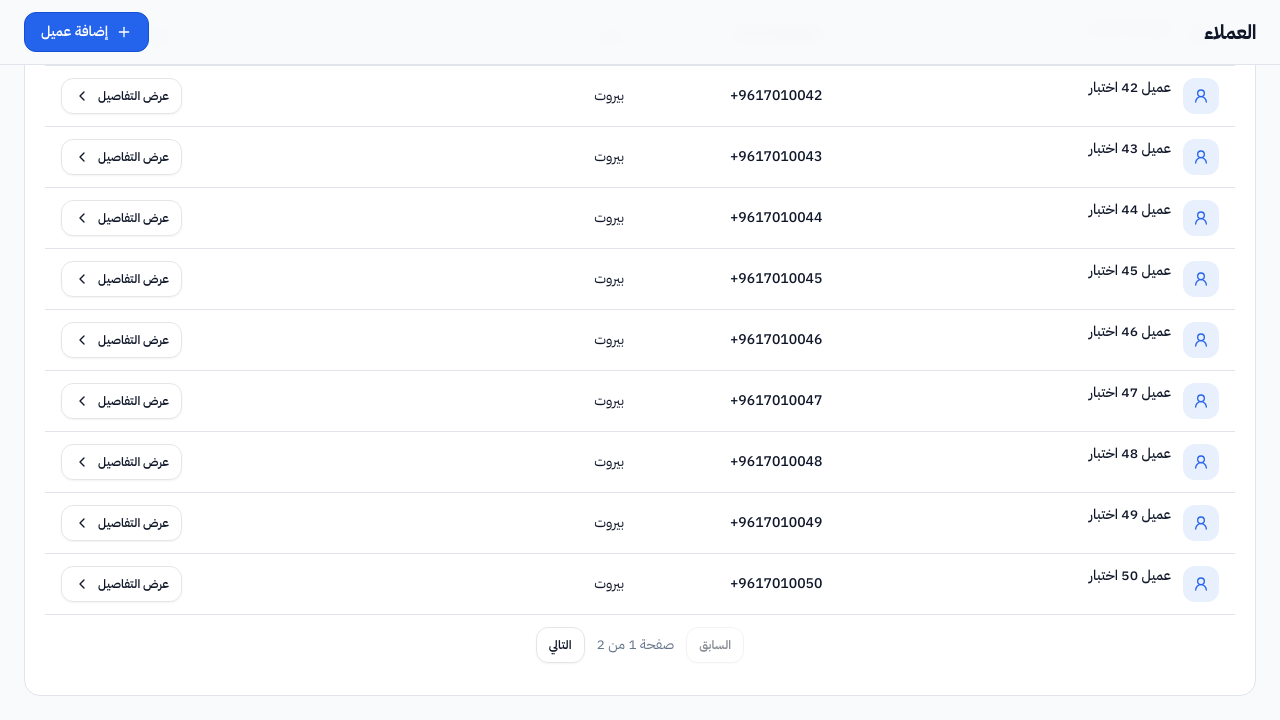
Test: CustomersPage › renders only one bounded page of customer records and exposes the next page
(page scrolled)
Expected: the text "عميل 51 اختبار" is not shown
Click the button "التالي": (560, 644) x1=536 y1=626 x2=585 y2=662
(page scrolled)
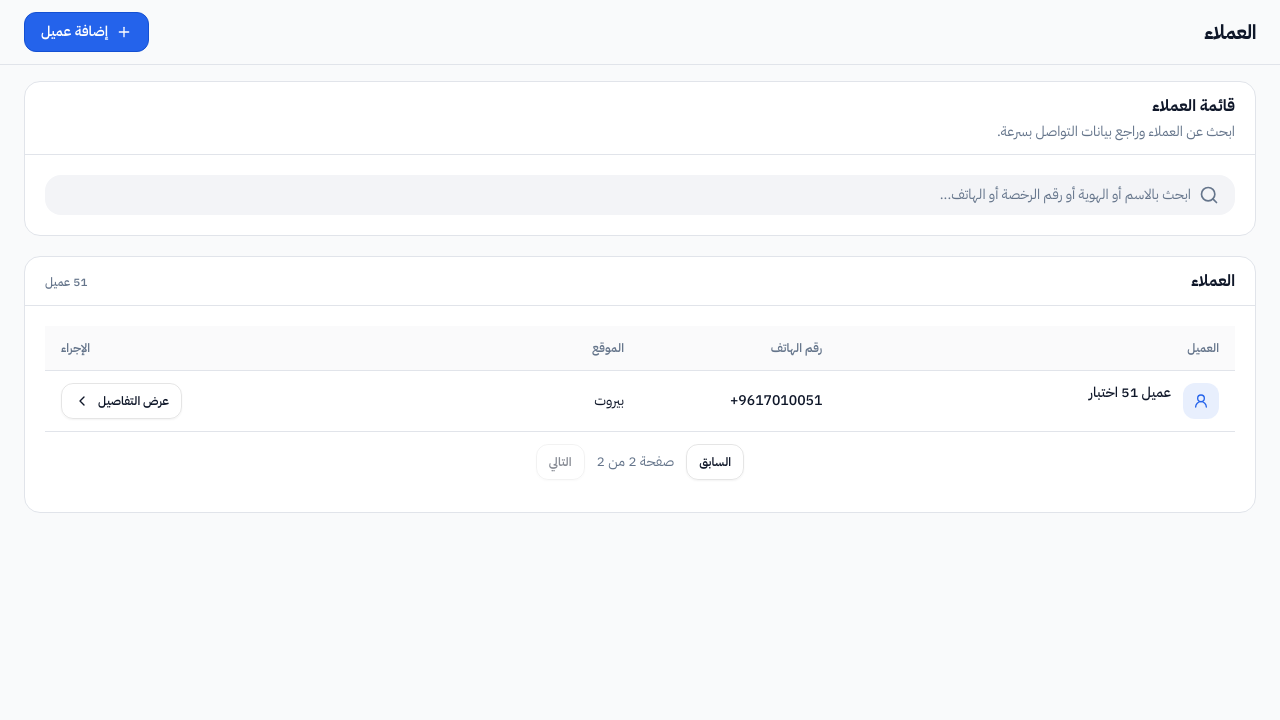
Result: the text "عميل 51 اختبار" is shown at x1=1089 y1=382 x2=1171 y2=402
